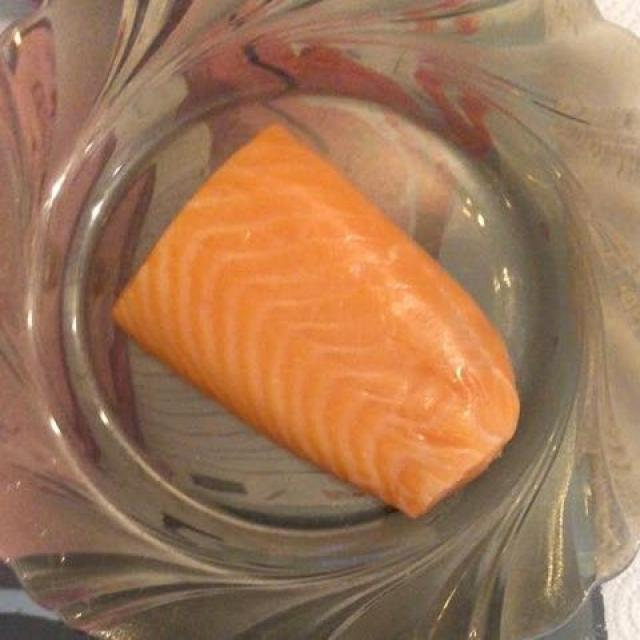salmon: (122, 125, 518, 498)
